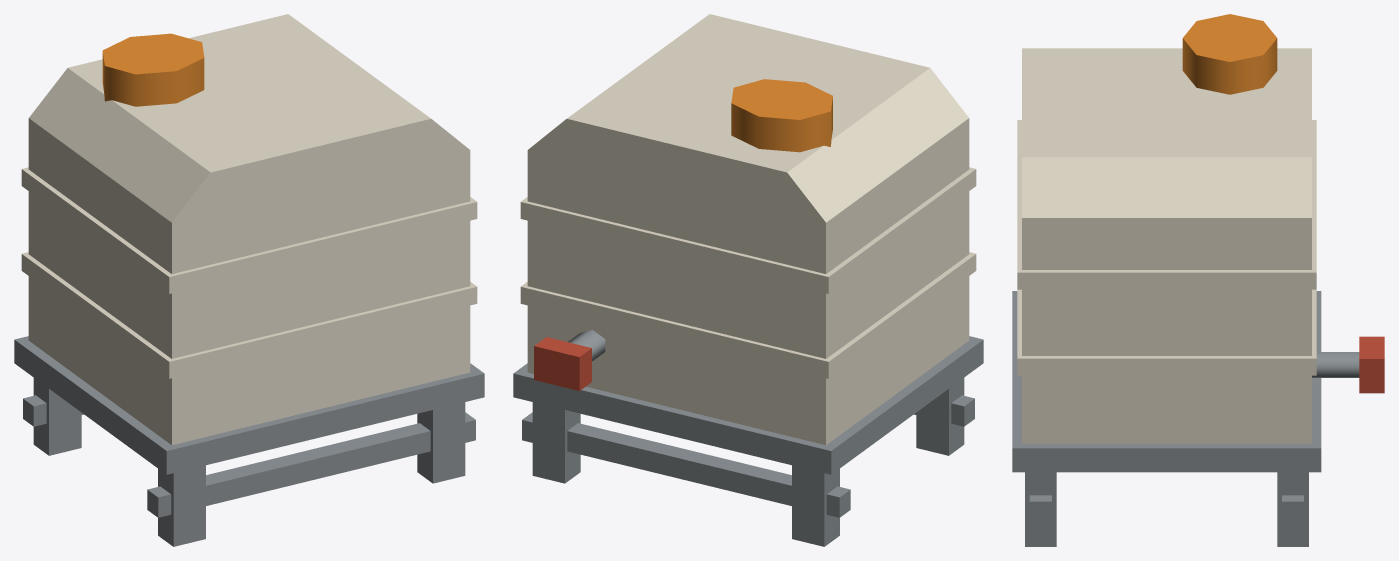
The model's file is citerne-eau-toit.glb.
3 renders of one model, left to right at view 1: azimuth 30°, elevation 25°; view 2: azimuth 150°, elevation 25°; view 3: azimuth 270°, elevation 25°, orthographic.
Parts seen in each view (by area): view 1: cuve, berceau, cuve-nervure-1, cuve-nervure-0, entretoise-1, bouchon, pied-4, pied-3, pied-1, entretoise-0; view 2: cuve, berceau, cuve-nervure-1, cuve-nervure-0, entretoise-0, bouchon, pied-2, pied-1, robinet-manette, pied-3, entretoise-1, robinet; view 3: cuve, berceau, cuve-nervure-1, cuve-nervure-0, bouchon, pied-2, pied-4, robinet-manette, robinet, entretoise-1, entretoise-0.
Boxes of the visible parts, <box> form: cuve: <box>28,14,470,444</box>; berceau: <box>14,336,484,474</box>; cuve-nervure-1: <box>21,167,477,293</box>; cuve-nervure-0: <box>21,252,477,378</box>; entretoise-1: <box>147,412,475,517</box>; bouchon: <box>102,33,204,106</box>; pied-4: <box>417,402,465,483</box>; pied-3: <box>158,465,205,546</box>; pied-1: <box>33,378,81,455</box>; entretoise-0: <box>23,395,83,426</box>; cuve: <box>527,14,969,444</box>; berceau: <box>513,336,983,474</box>; cuve-nervure-1: <box>520,167,976,293</box>; cuve-nervure-0: <box>520,252,976,378</box>; entretoise-0: <box>522,412,850,517</box>; bouchon: <box>731,79,832,152</box>; pied-2: <box>532,402,580,483</box>; pied-1: <box>792,465,839,546</box>; robinet-manette: <box>534,337,591,390</box>; pied-3: <box>916,378,964,455</box>; entretoise-1: <box>914,395,974,426</box>; robinet: <box>568,330,605,361</box>; cuve: <box>1022,48,1311,443</box>; berceau: <box>1012,291,1321,472</box>; cuve-nervure-1: <box>1017,120,1316,289</box>; cuve-nervure-0: <box>1017,289,1316,375</box>; bouchon: <box>1182,14,1277,94</box>; pied-2: <box>1277,472,1308,546</box>; pied-4: <box>1025,472,1056,546</box>; robinet-manette: <box>1359,336,1384,393</box>; robinet: <box>1312,352,1359,377</box>; entretoise-1: <box>1029,495,1051,522</box>; entretoise-0: <box>1282,495,1303,522</box>.
Size of the model in its own units: 0.05 by 0.06 by 0.05.
